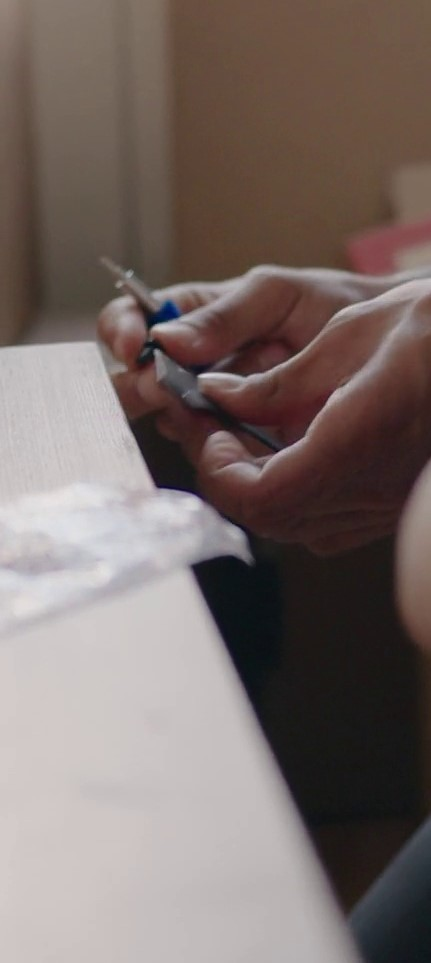screwdriver: (94, 249, 206, 349)
